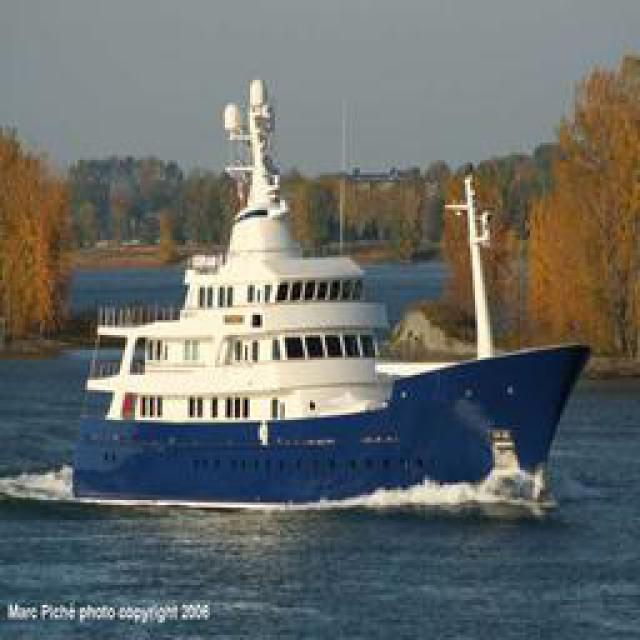Ship: (74, 117, 589, 507)
